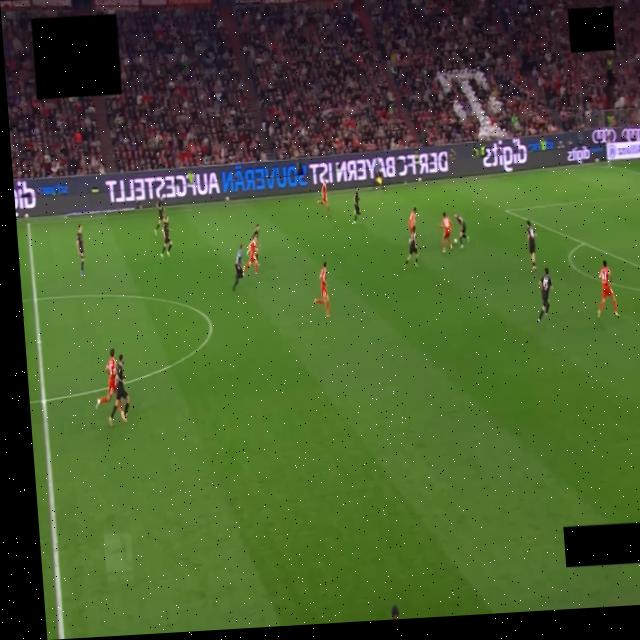ball: (453, 238, 458, 244)
player: (108, 354, 129, 425), (95, 349, 116, 408), (597, 261, 618, 317), (537, 268, 552, 323), (314, 262, 329, 317), (404, 226, 418, 267), (244, 237, 258, 275), (453, 213, 468, 248), (439, 213, 452, 253), (160, 216, 171, 258), (526, 221, 535, 272), (76, 224, 84, 276), (317, 182, 330, 213), (154, 199, 164, 235), (252, 224, 259, 258), (353, 188, 359, 224), (408, 207, 416, 233), (391, 605, 398, 619)
referee: (232, 245, 243, 291)
